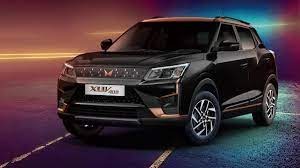XUV 400: (56, 13, 278, 147)
